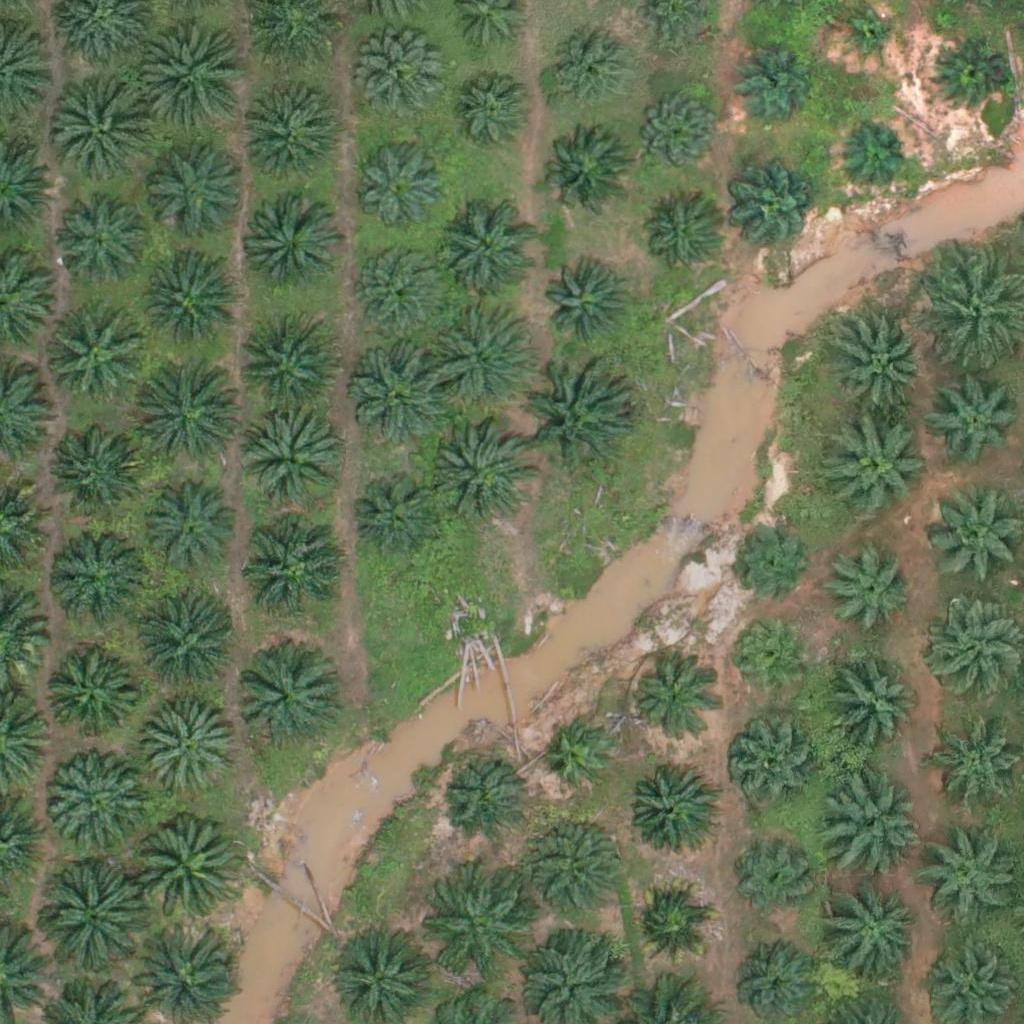Kelapa_Sawit: (137, 16, 250, 129), (33, 861, 146, 974), (518, 361, 631, 474), (129, 813, 241, 926), (421, 298, 533, 411), (133, 356, 245, 469), (53, 88, 153, 189), (146, 140, 246, 241), (243, 90, 343, 191), (244, 198, 344, 299), (917, 832, 1017, 933), (824, 878, 924, 979), (418, 878, 518, 979), (233, 650, 333, 751), (140, 699, 240, 800), (38, 644, 138, 745), (45, 752, 145, 853), (817, 539, 917, 640), (427, 422, 527, 523), (352, 339, 452, 440), (236, 408, 336, 509), (236, 320, 336, 421), (140, 252, 240, 353), (352, 137, 452, 237), (438, 201, 538, 301), (823, 659, 923, 759), (826, 775, 926, 875), (525, 813, 625, 913), (138, 601, 238, 701), (833, 313, 933, 413), (824, 419, 924, 519), (242, 518, 342, 618), (138, 477, 238, 577), (50, 522, 150, 622), (42, 302, 142, 402), (47, 418, 147, 518), (443, 68, 531, 157), (357, 244, 445, 333), (733, 167, 821, 255), (727, 616, 815, 704), (731, 834, 819, 922), (440, 754, 528, 842), (638, 194, 725, 282), (633, 87, 720, 175), (543, 26, 630, 114), (539, 126, 626, 214), (56, 197, 143, 285), (359, 38, 446, 126), (731, 34, 818, 122), (729, 717, 816, 805), (631, 658, 718, 746), (627, 763, 714, 851), (627, 881, 714, 969), (930, 380, 1017, 468), (729, 517, 816, 605), (544, 263, 631, 351), (353, 470, 440, 558), (543, 720, 618, 796), (931, 35, 1006, 111), (837, 118, 912, 193), (838, 7, 901, 70)
